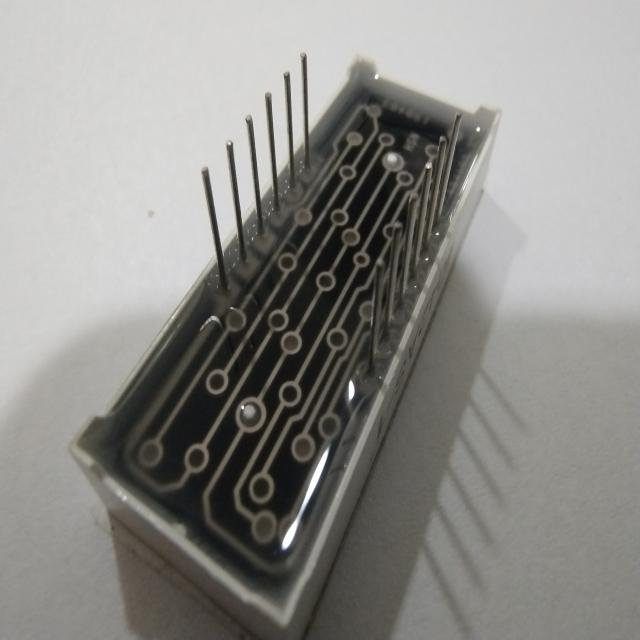7_segments_4_digits: (60, 32, 513, 640)
